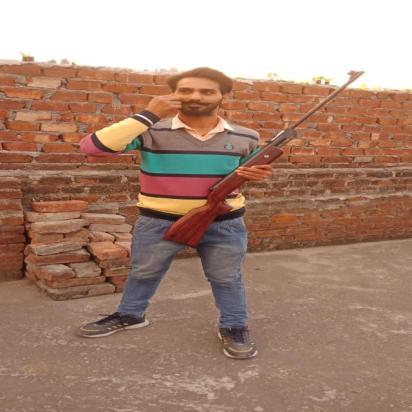Gun: (160, 70, 368, 250)
